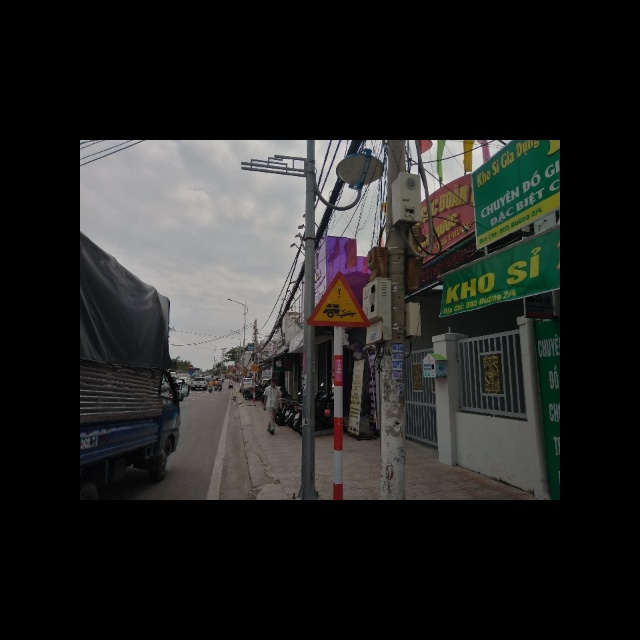Đoạn đường hay xảy ra tai nạn: (306, 271, 370, 329)
Đường đôi: (249, 361, 261, 373)
